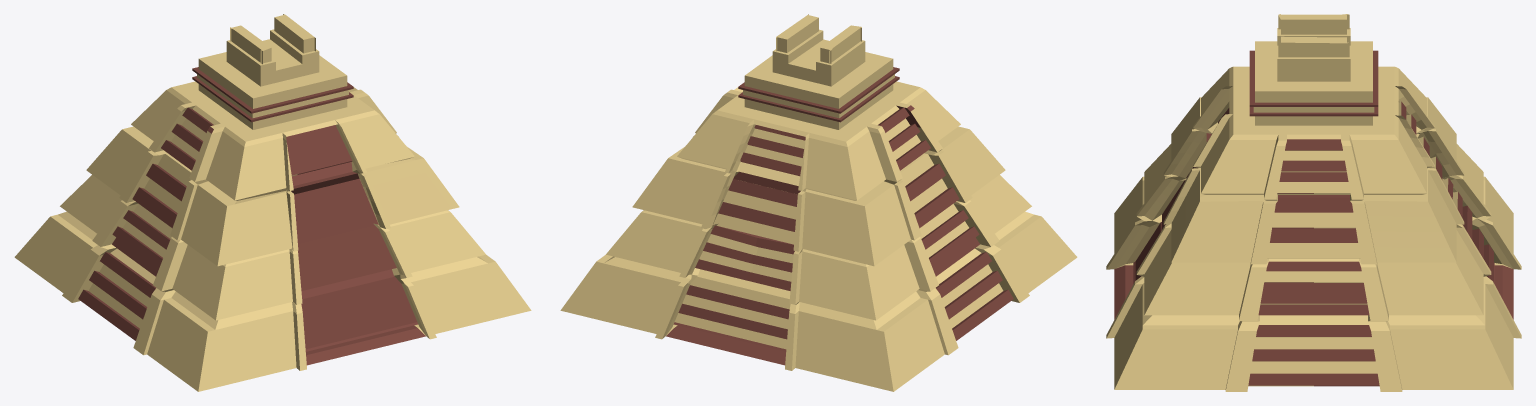
Rendered from fondos p2.fbx.
3 renders of one model, left to right at view 1: azimuth 30°, elevation 25°; view 2: azimuth 150°, elevation 25°; view 3: azimuth 270°, elevation 25°, orthographic. The views are drawn at different scales.
Parts seen in each view (by area): view 1: Cube.001; view 2: Cube.001; view 3: Cube.001.
Boxes of the visible parts, box(x1,y1,x2,y2) form: Cube.001: box(14, 14, 531, 391); Cube.001: box(560, 14, 1077, 391); Cube.001: box(1106, 14, 1521, 391).
Size of the model in its own units: 458 by 326 by 445.
